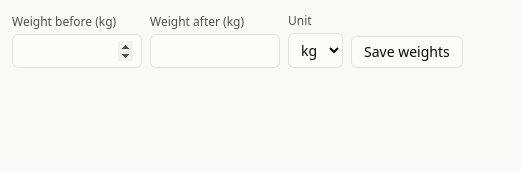
Scenario: saves pounds as kilograms and converts what is typed on a unit switch
In the number field labelled "Weight before (kg)": (77, 51) [12, 34, 142, 68], type "72.57"
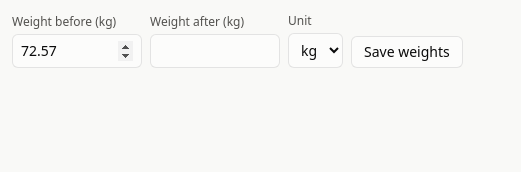
Select "lb" in the dropdown labelled "Unit": (316, 51) [288, 33, 343, 68]
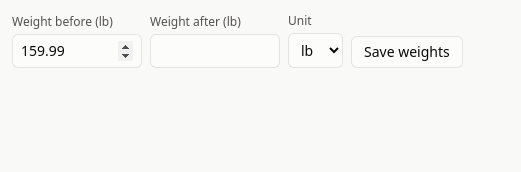
Expected: the number field labelled "Weight before (lb)" holds "159.99", [12, 34, 142, 68]
In the number field labelled "Weight after (lb)": (215, 51) [150, 34, 280, 68], type "157.4"
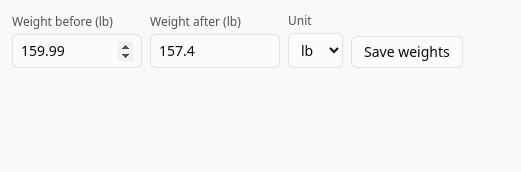
Click the button "Save weights": (407, 52) [351, 36, 463, 68]
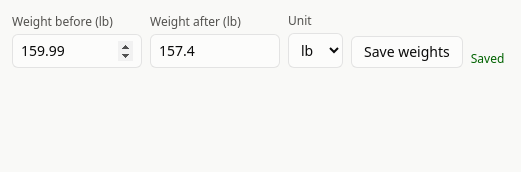
Expected: the text "Saved" is shown, [471, 50, 504, 67]
Replace the text in the number field labelled "Weight after (lb)" with "157": (215, 51) [150, 34, 280, 68]
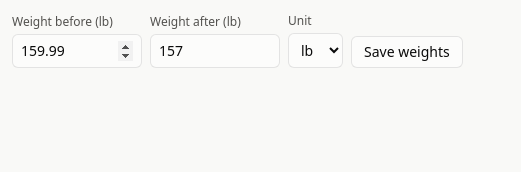
Expected: the text "Saved" is gone
